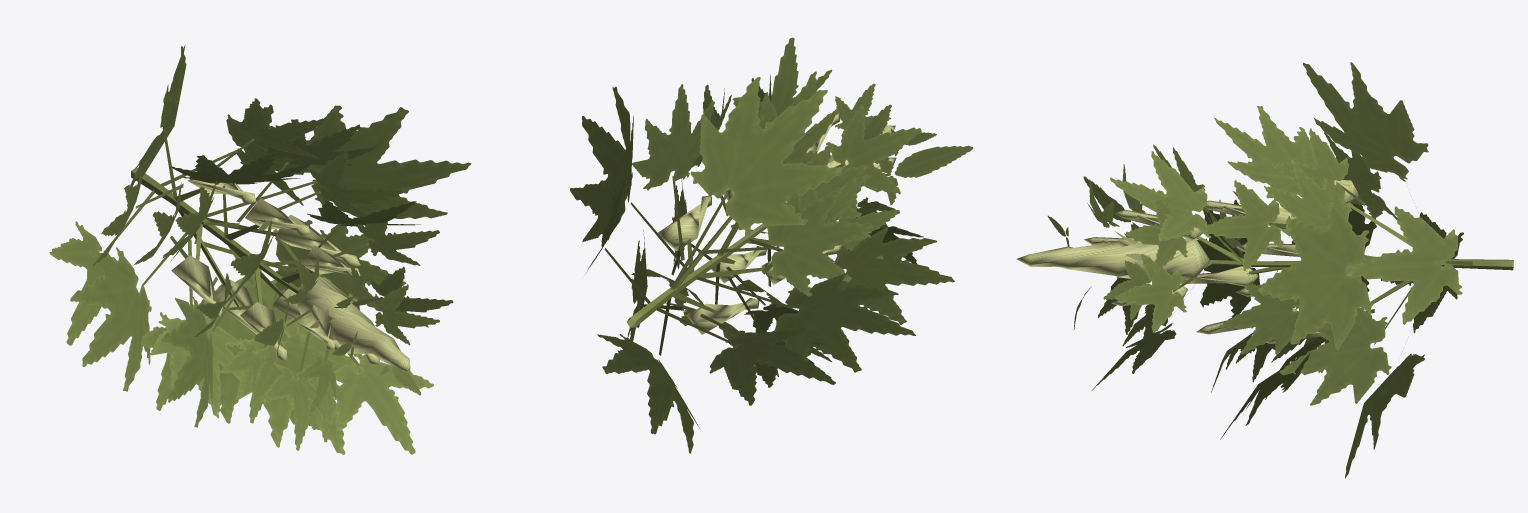
Rendered from p_frosty_hybrid_flowering_c1_cards.obj.
3 renders of one model, left to right at view 1: azimuth 30°, elevation 25°; view 2: azimuth 150°, elevation 25°; view 3: azimuth 270°, elevation 25°, orthographic. The views are drawn at different scales.
Bounding box in the file's own units: 1.55 × 1.63 × 1.64.
Materials: 1 (1 with a texture image).
